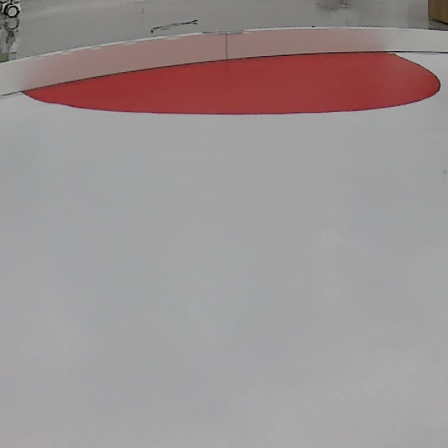red_base: (17, 49, 448, 119)
